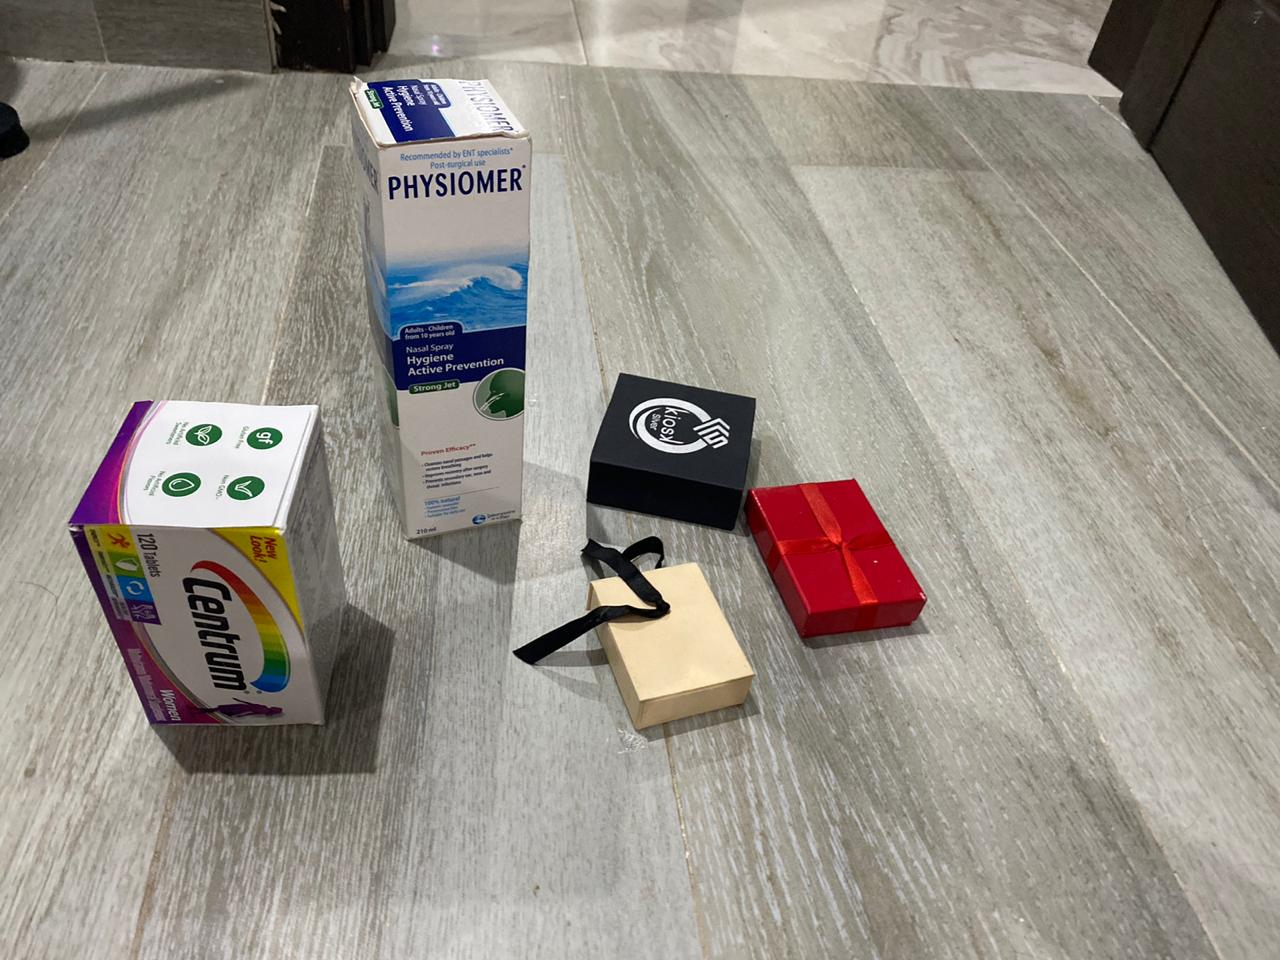Black Box: (749, 478, 932, 641)
Centrum: (70, 400, 351, 733)
Physiomer: (344, 76, 537, 542)
Red Box: (586, 369, 759, 532)
Yellow Box: (587, 563, 757, 730)
